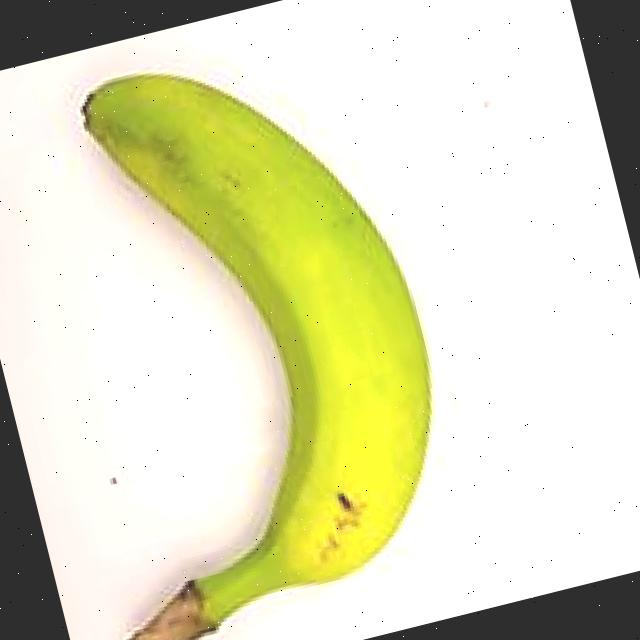Unripe: (0, 7, 504, 640)
